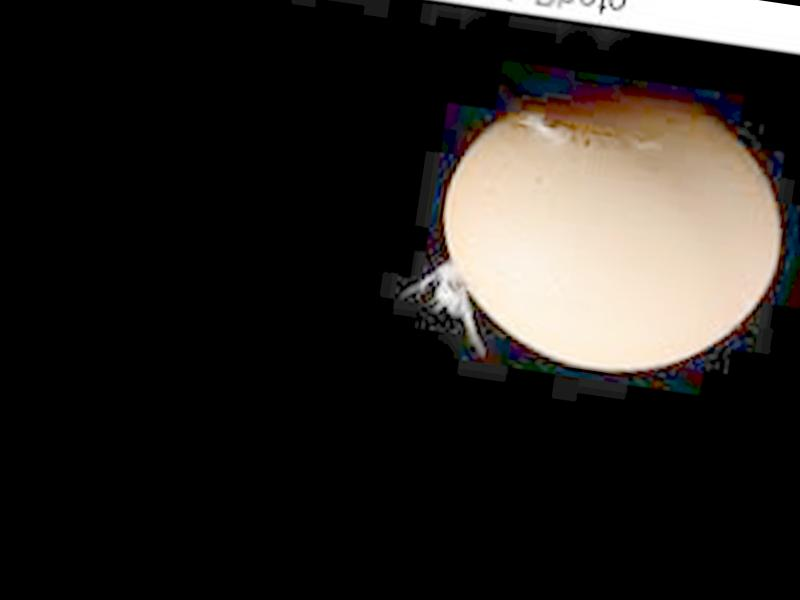Eggs: (425, 67, 799, 390)
